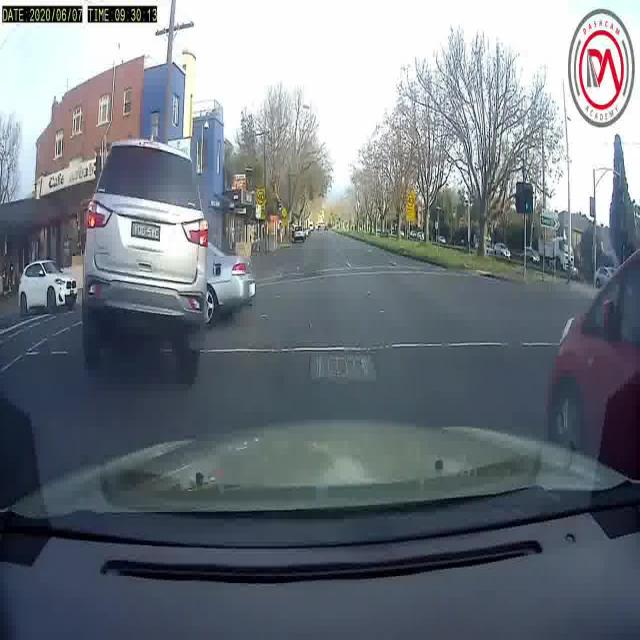Accident: (60, 106, 277, 380)
